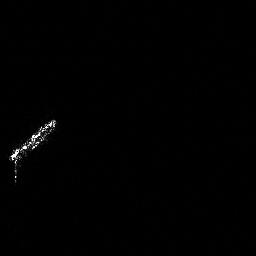ship: (8, 118, 57, 185)
